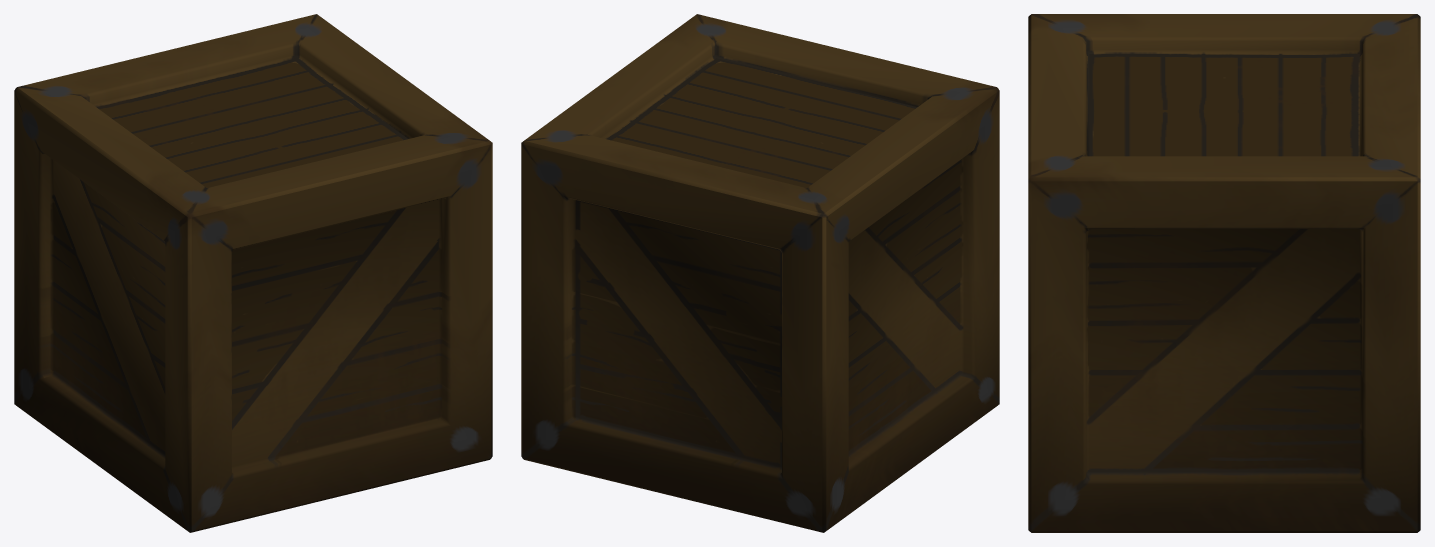
3 renders of one model, left to right at view 1: azimuth 30°, elevation 25°; view 2: azimuth 150°, elevation 25°; view 3: azimuth 270°, elevation 25°, orthographic. The views are drawn at different scales.
Parts seen in each view (by area): view 1: Box_Whole; view 2: Box_Whole; view 3: Box_Whole.
Part boxes in pixels (left/top/right/bottom): Box_Whole: left=14, top=14, right=492, bottom=532; Box_Whole: left=521, top=14, right=999, bottom=532; Box_Whole: left=1028, top=14, right=1420, bottom=532.
Size of the model in its own units: 209 by 209 by 209.
